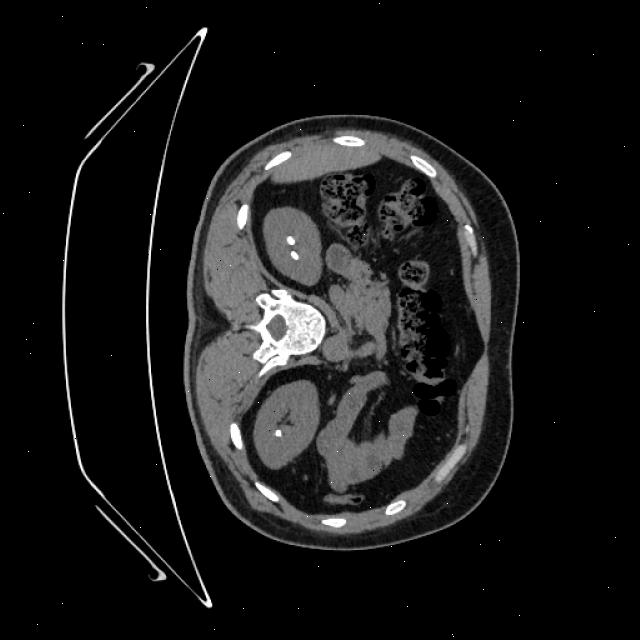kidneystone: (289, 251, 299, 260), (287, 235, 295, 244), (274, 429, 281, 436)
